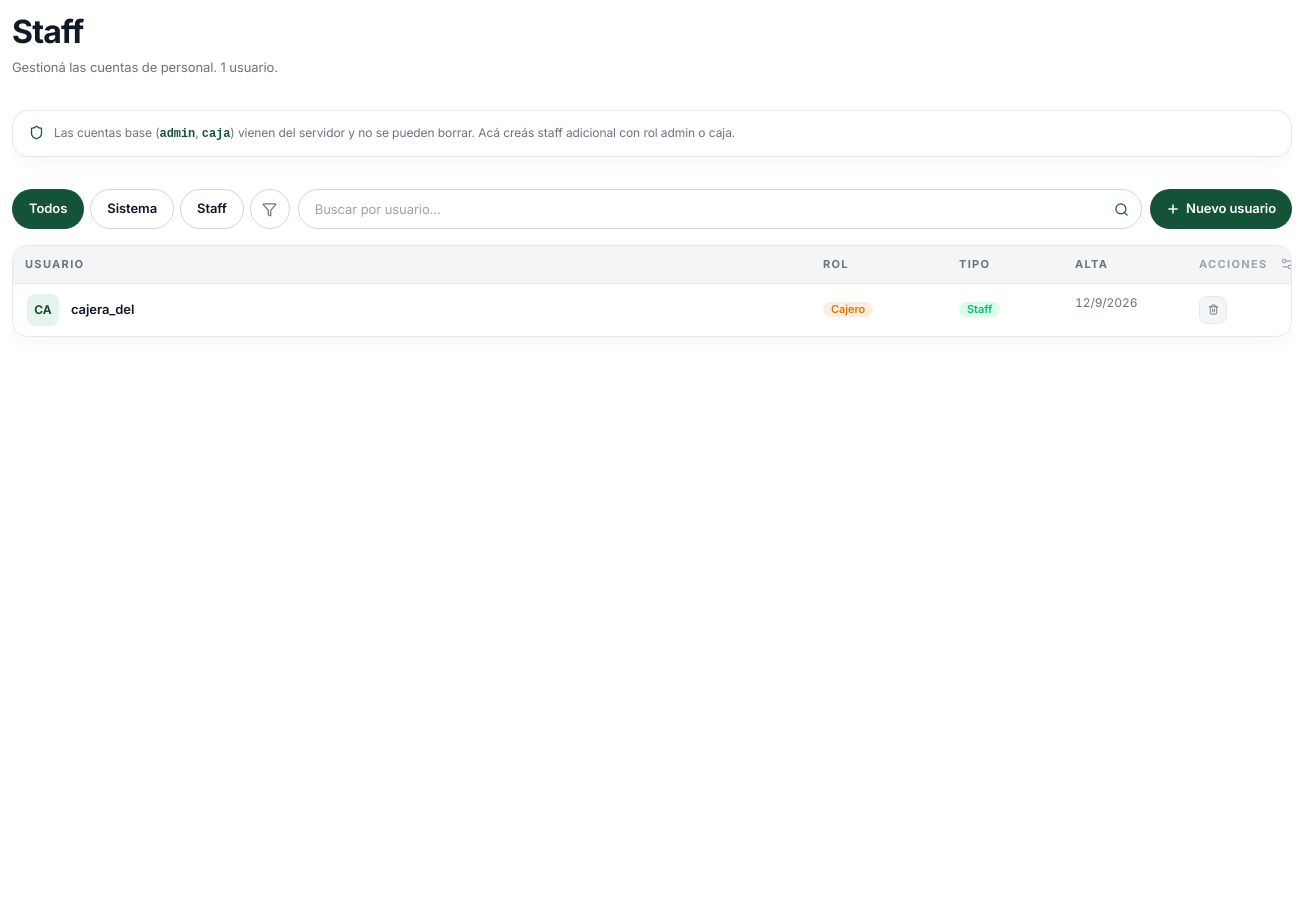
Test case: UsuariosSection › borra un usuario de staff con ConfirmRail y Deshacer cancela el DELETE
Expected: the text "cajera_del" is shown, [71,300,134,319]
Click the button titled "Eliminar" at (1213, 310), box [1199,292,1227,328]
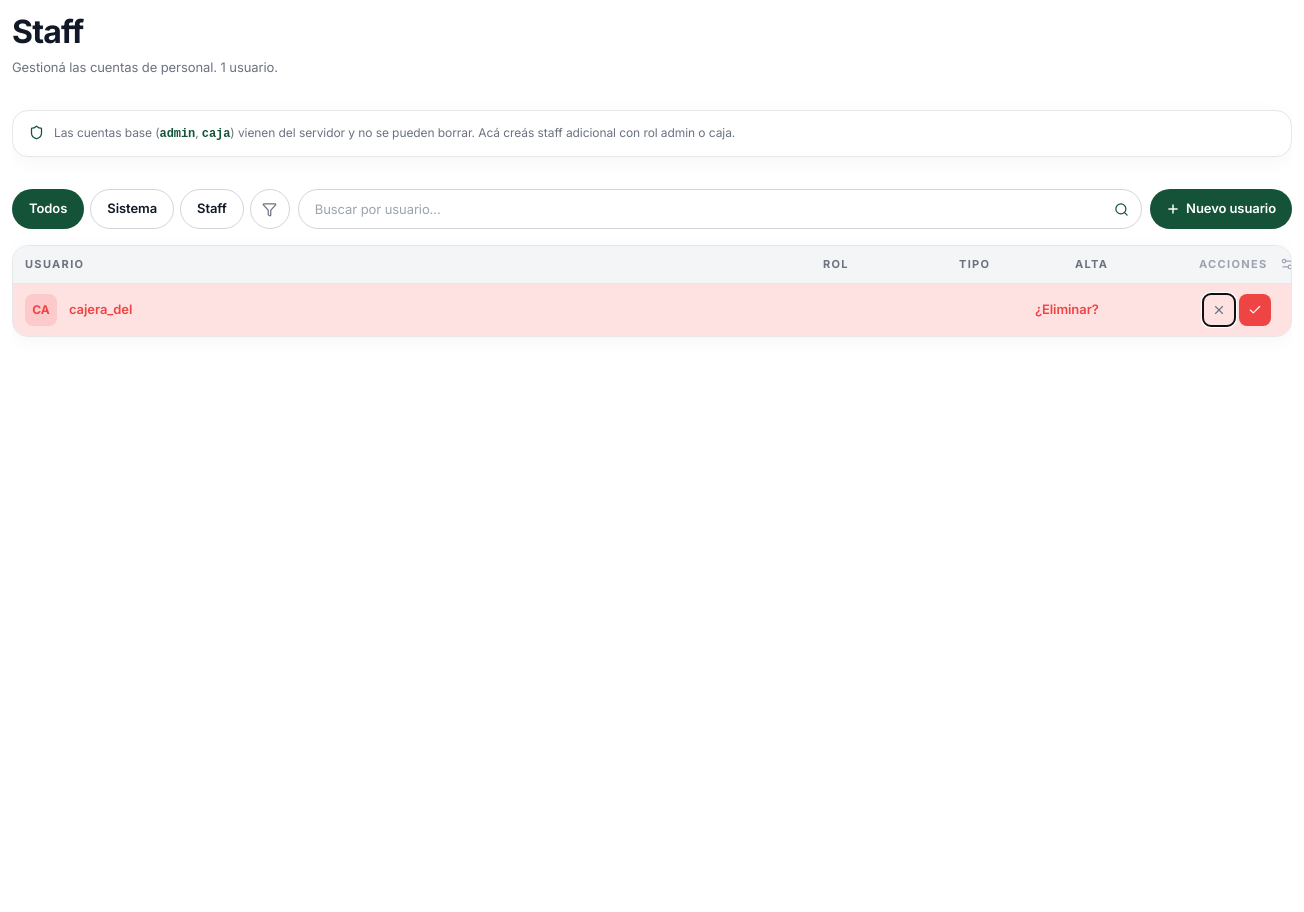
Expected: the text "¿Eliminar?" is shown, [1035,300,1099,319]
Click the button named "Confirmar" at (1255, 310), box [1239,294,1271,326]
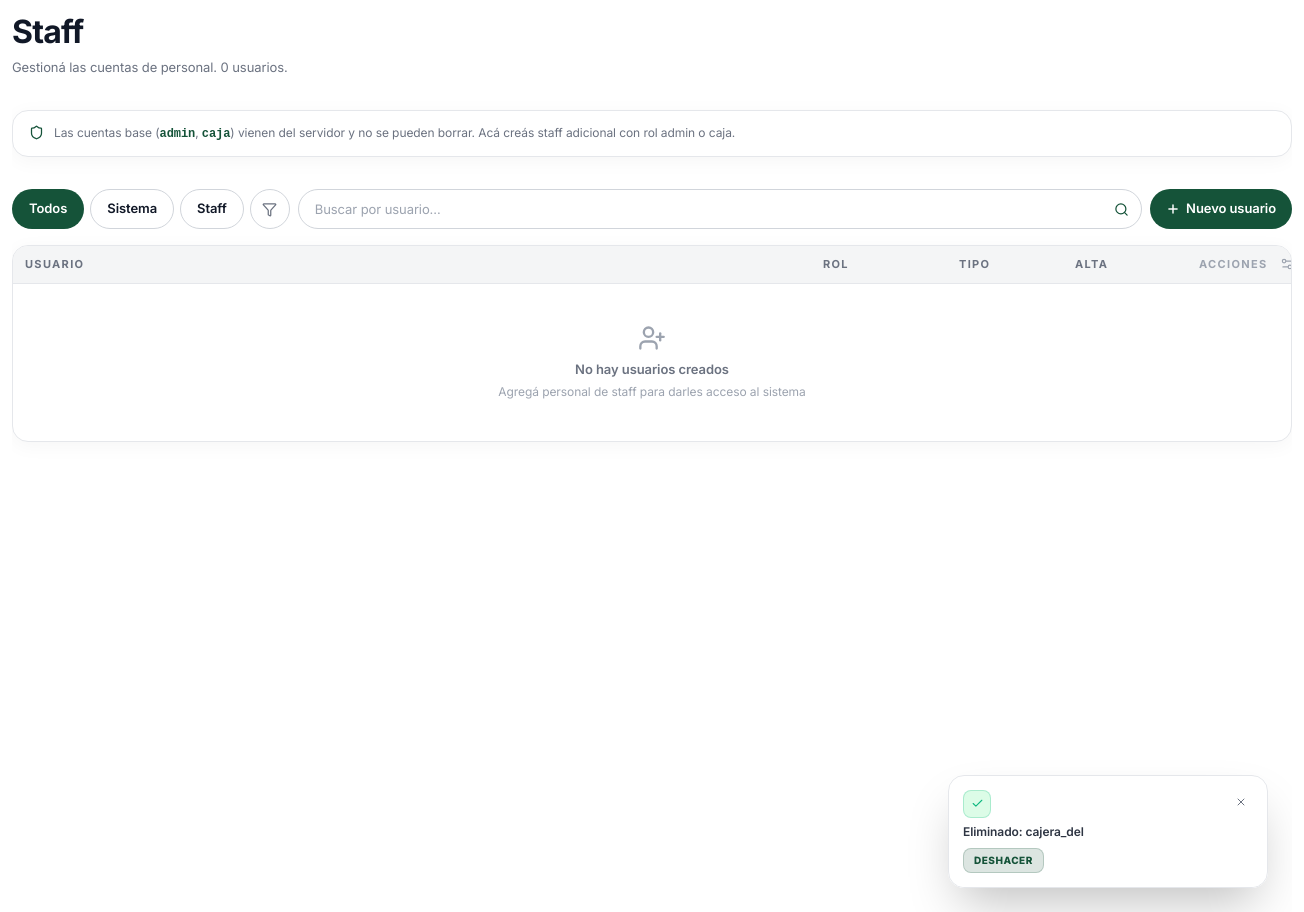
Expected: the text "Eliminado: cajera_del" is shown, [963,824,1084,838]
Click the button "Deshacer" at (1003, 860), box [963,848,1044,873]
Wait 6000 ms
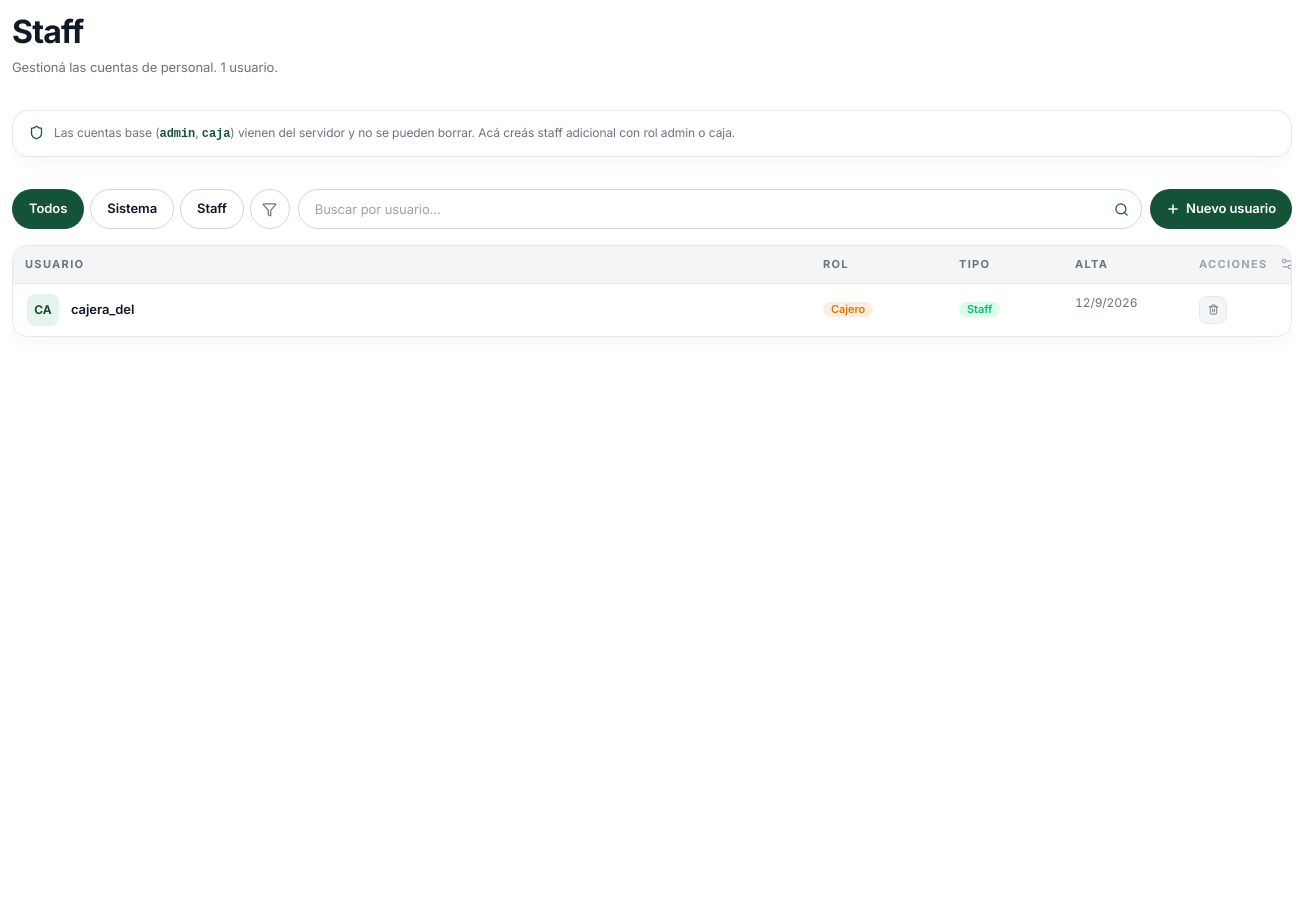
Expected: the text "cajera_del" is shown, [71,300,134,319]
